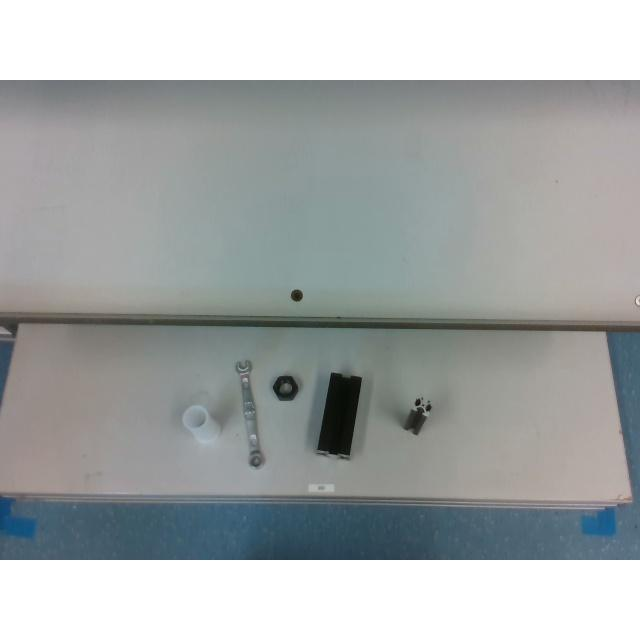F20_20_B: (402, 398, 431, 434)
M20: (274, 376, 298, 400)
S40_40_B: (316, 372, 360, 458)
Spacer: (182, 404, 220, 442)
Wrench: (236, 360, 264, 468)
